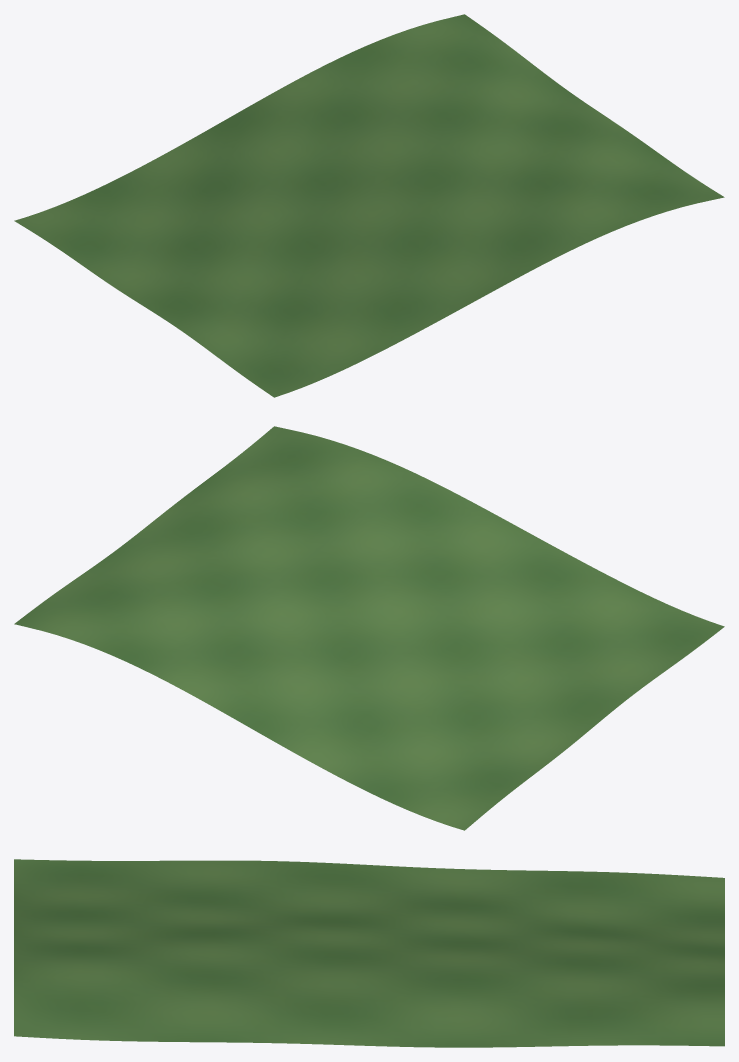
Rendered from chunk_12_11.glb.
3 views of the same model, one above another, from view 1: azimuth 30°, elevation 25°; view 2: azimuth 150°, elevation 25°; view 3: azimuth 270°, elevation 25° (orthographic). The views are drawn at different scales.
Bounding box in the file's own units: 512 × 114 × 512.
